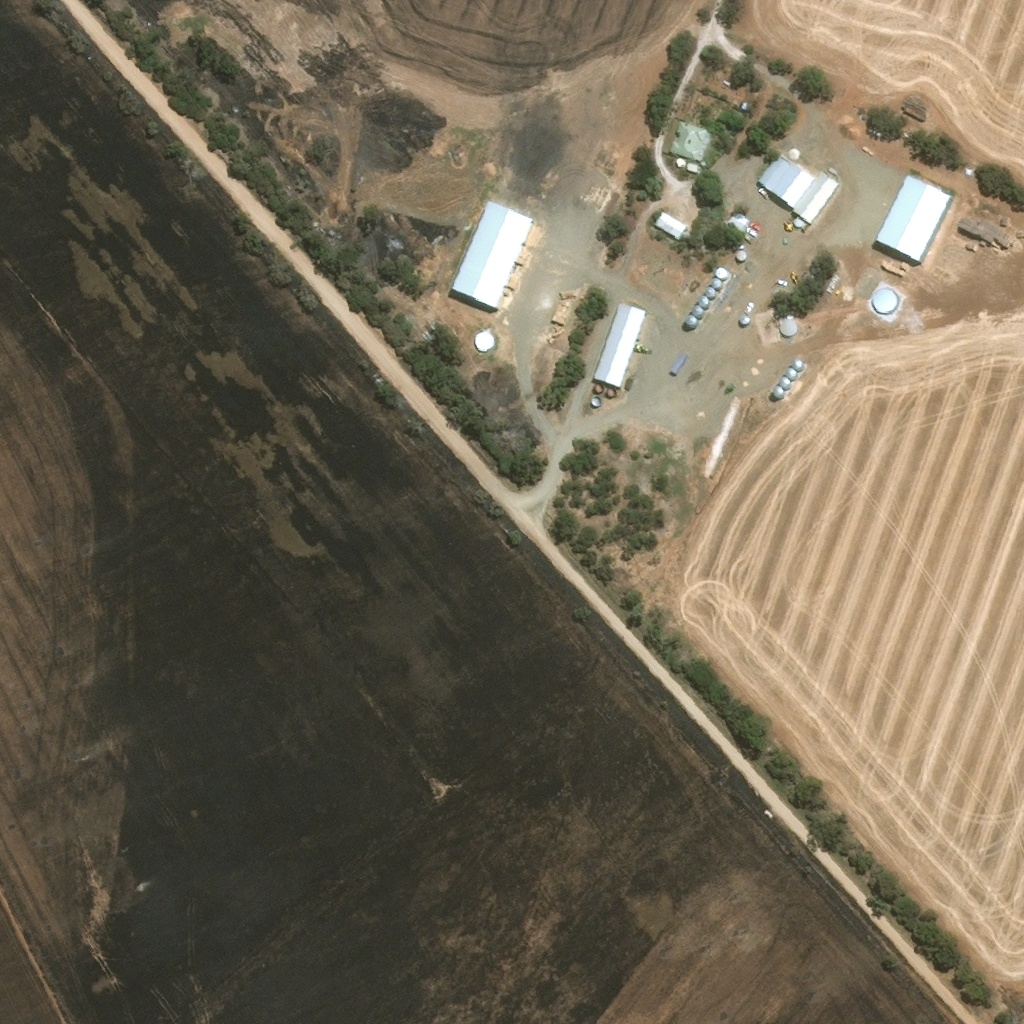0 no-damage: (758, 156, 839, 226), (593, 302, 647, 389), (670, 122, 707, 160), (655, 212, 687, 242), (473, 333, 493, 354), (730, 212, 750, 233), (779, 321, 797, 339), (779, 375, 792, 391), (693, 303, 705, 320), (774, 384, 785, 402), (700, 294, 712, 310), (787, 366, 798, 383), (686, 314, 698, 329), (706, 286, 718, 301), (686, 163, 700, 175), (793, 359, 804, 374), (712, 279, 722, 294), (602, 391, 613, 403), (675, 159, 685, 169)
4 un-classified: (615, 450, 629, 465), (638, 439, 652, 451), (675, 291, 687, 303), (631, 434, 642, 446), (688, 449, 698, 461), (687, 423, 698, 433), (692, 439, 703, 449)
